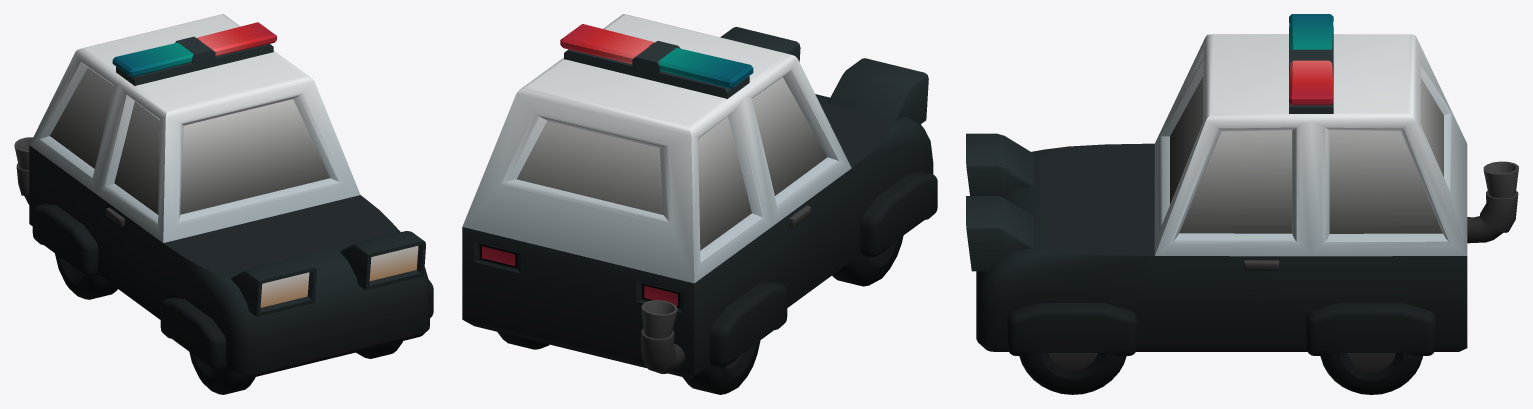
File: carro oi.fbx
3 views of the same model, side by side, from view 1: azimuth 30°, elevation 25°; view 2: azimuth 150°, elevation 25°; view 3: azimuth 270°, elevation 25° (orthographic). The views are drawn at different scales.
Parts seen in each view (by area): view 1: Car, BackWheels, FrontRightWheel, FrontLeftWheel; view 2: Car, BackWheels, FrontRightWheel; view 3: Car, FrontLeftWheel, BackWheels.
Boxes of the visible parts, left/top/right/bottom form: Car: left=14, top=14, right=433, bottom=378; BackWheels: left=55, top=253, right=117, bottom=299; FrontRightWheel: left=189, top=352, right=255, bottom=394; FrontLeftWheel: left=356, top=341, right=402, bottom=358; Car: left=462, top=14, right=937, bottom=378; BackWheels: left=497, top=332, right=760, bottom=394; FrontRightWheel: left=832, top=235, right=903, bottom=286; Car: left=966, top=14, right=1518, bottom=355; FrontLeftWheel: left=1019, top=353, right=1126, bottom=394; BackWheels: left=1320, top=353, right=1422, bottom=394.
Bounding box in the file's own units: 145 × 156 × 266.
